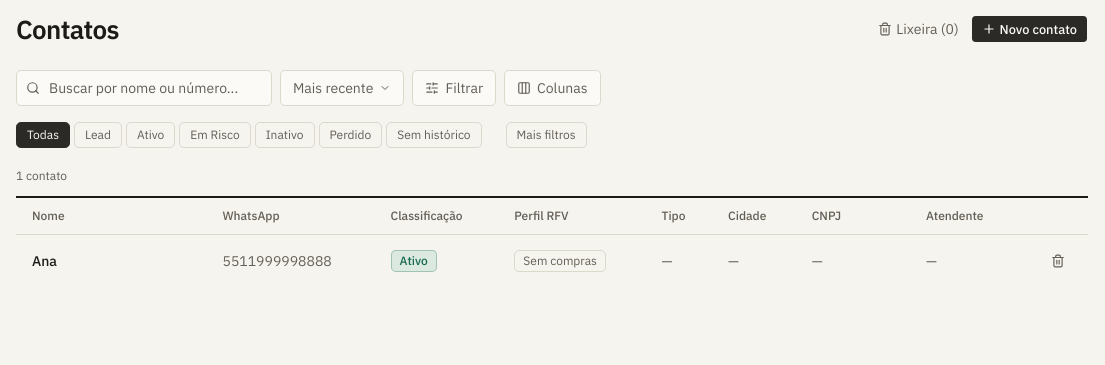
Test: B38-02 — campos no Chat, no cadastro e na lista › CA-B38-65: should voltar a coluna e avisar quando a escolha não é gravada
Click the button "Colunas" at (552, 88), box [504,70,601,106]
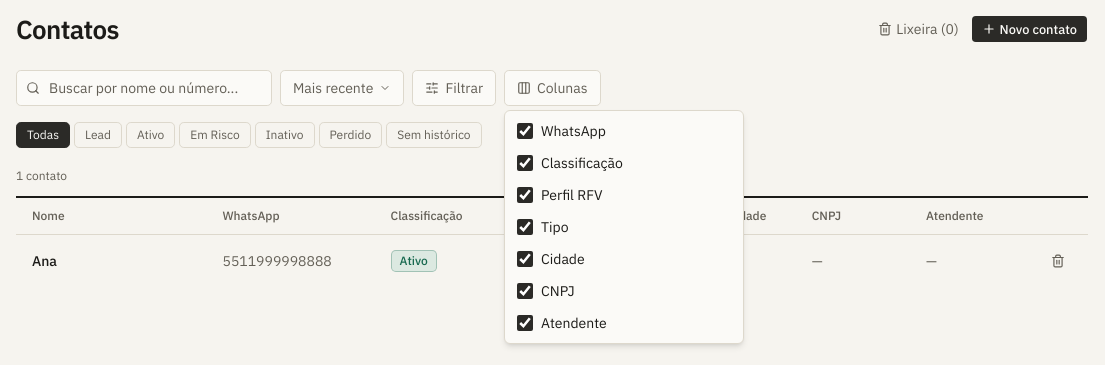
Click the checkbox labelled "CNPJ" at (525, 290), box [517,282,533,298]
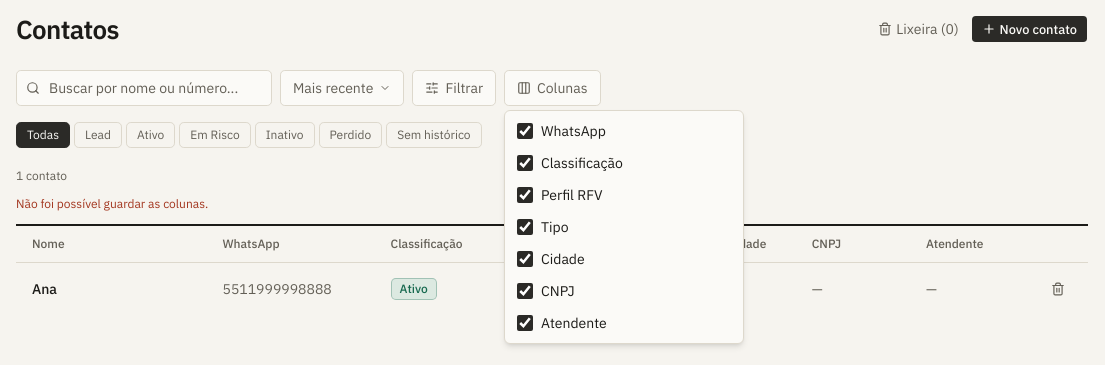
Check: the text "Não foi possível guardar as colunas." is shown, box [16,196,208,210]
